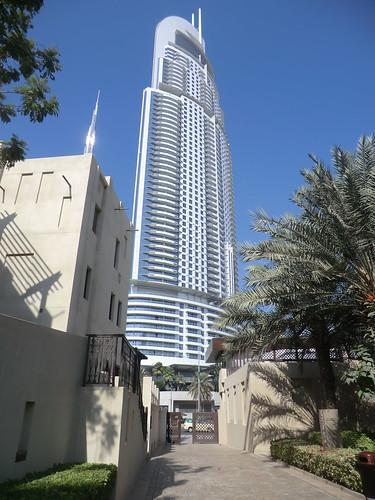building: (122, 6, 246, 372)
